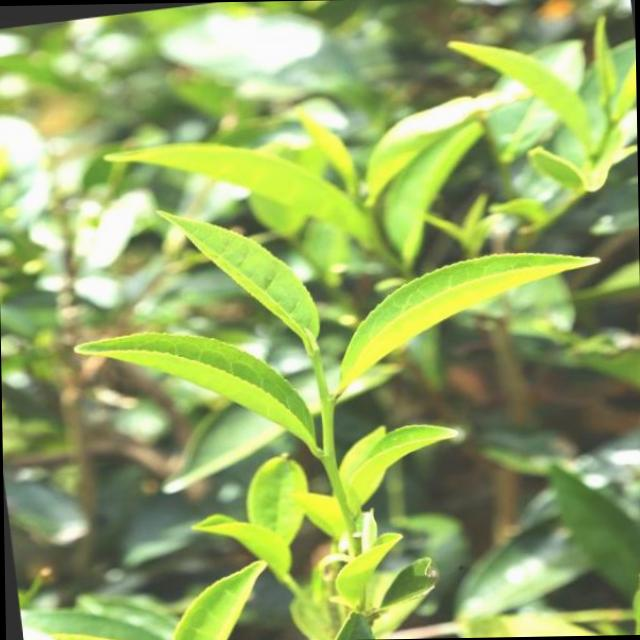Stem: (320, 396, 333, 412)
